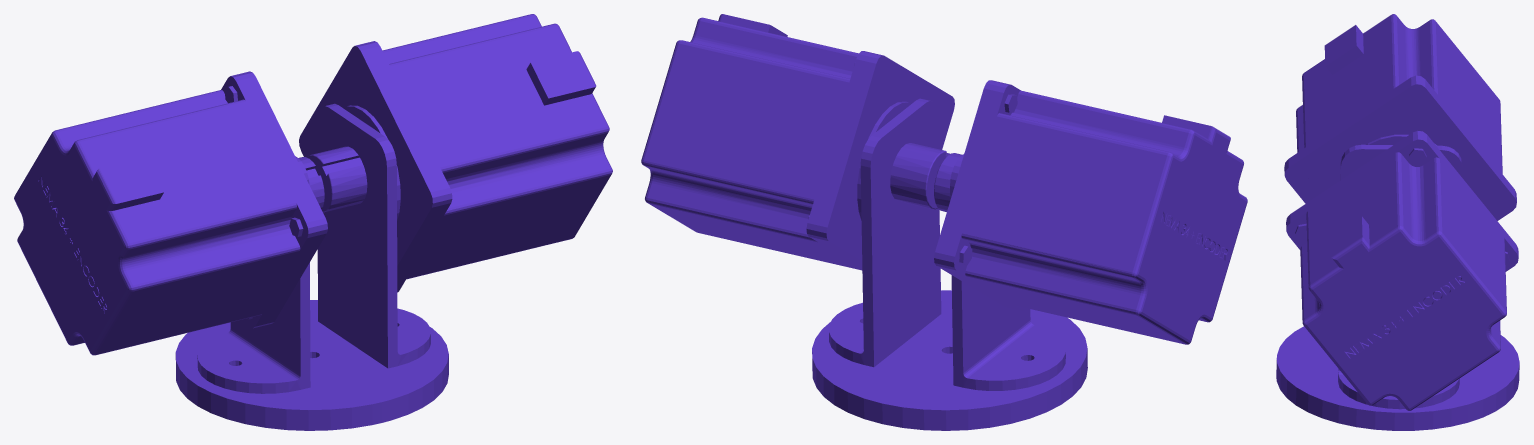
3 renders of one model, left to right at view 1: azimuth 30°, elevation 25°; view 2: azimuth 150°, elevation 25°; view 3: azimuth 270°, elevation 25°, orthographic. The views are drawn at different scales.
Visible parts, largest first — view 1: link1; view 2: link1; view 3: link1.
Part boxes in pixels (x1,y1,x2,y2): link1: [14, 14, 612, 430]; link1: [641, 14, 1247, 430]; link1: [1276, 14, 1519, 430].
Size of the model in its own units: 0.249 by 0.1201 by 0.1503.
